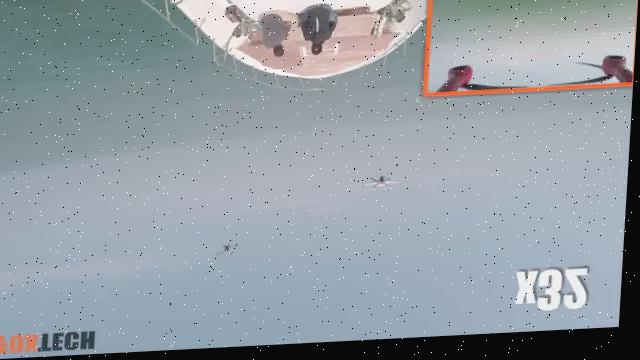drone: (212, 243, 249, 267)
